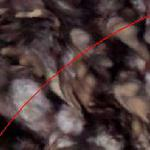alive: (5, 34, 147, 147)
